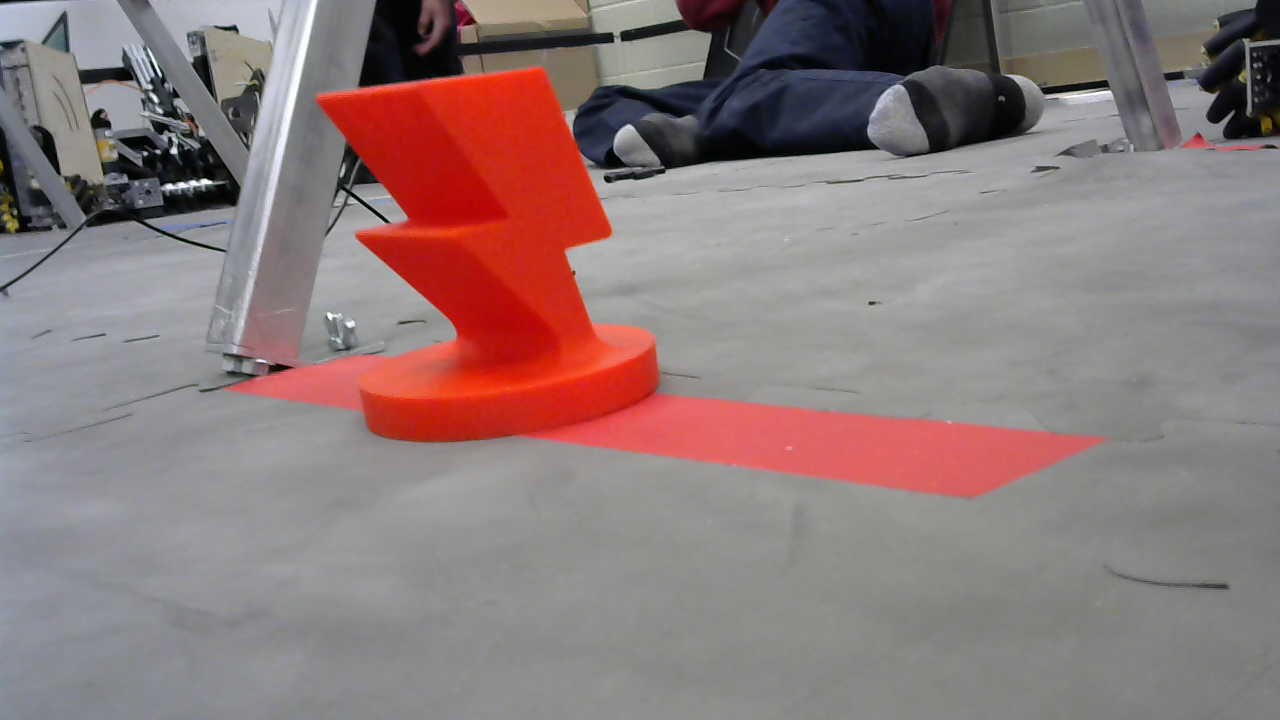redobject: (313, 62, 666, 446)
